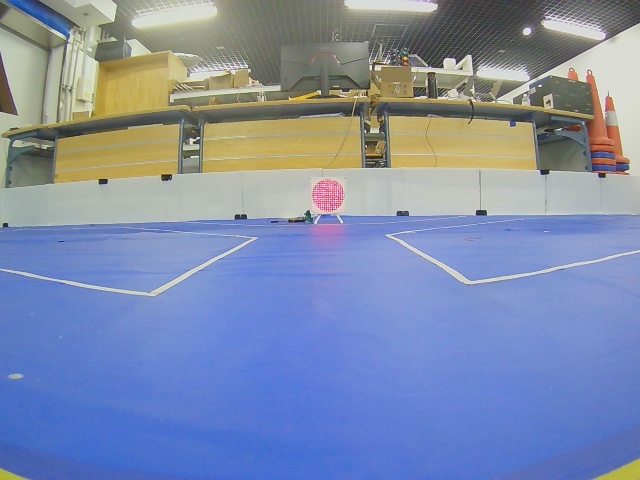red: (311, 178, 345, 213)
